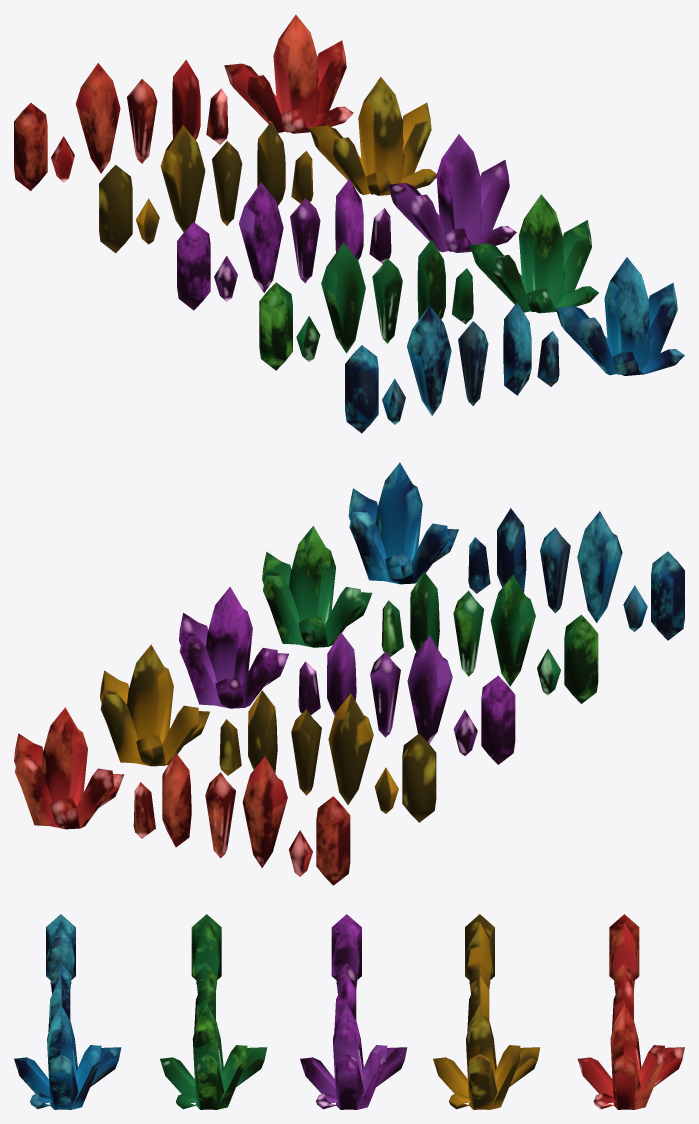
Rendered from lowpolycrystalsfinal.fbx.
The picture shows the model from 3 angles, top to bottom: view 1: azimuth 30°, elevation 25°; view 2: azimuth 150°, elevation 25°; view 3: azimuth 270°, elevation 25°; orthographic projection. The views are drawn at different scales.
Visible parts, largest first — view 1: blueCrystal1, greenCrystal1, redCrystal1, purpleCrystal1, yellowCrystal1, greenCrystal5, purpleCrystal5, blueCrystal5, redCrystal5, yellowCrystal5, purpleCrystal7, greenCrystal7 (+23 smaller); view 2: purpleCrystal1, redCrystal1, greenCrystal1, yellowCrystal1, blueCrystal1, yellowCrystal5, blueCrystal5, redCrystal5, greenCrystal5, purpleCrystal5, redCrystal7, purpleCrystal7 (+23 smaller); view 3: redCrystal1, blueCrystal1, yellowCrystal1, greenCrystal1, purpleCrystal1, redCrystal5, blueCrystal5, purpleCrystal5, greenCrystal5, yellowCrystal5, purpleCrystal7, greenCrystal7 (+13 smaller).
Boxes of the visible parts, x1,y1,x2,y2 form: blueCrystal1: (555,257,684,375); greenCrystal1: (469,194,598,313); redCrystal1: (224,14,353,133); purpleCrystal1: (387,134,516,252); yellowCrystal1: (309,77,436,195); greenCrystal5: (321,242,365,353); purpleCrystal5: (239,182,283,292); blueCrystal5: (407,305,451,415); redCrystal5: (76,63,120,173); yellowCrystal5: (160,125,205,232); purpleCrystal7: (177,222,210,310); greenCrystal7: (259,282,292,370); purpleCrystal1: (179,587,288,708); redCrystal1: (14,707,124,829); greenCrystal1: (262,526,372,647); yellowCrystal1: (100,644,209,766); blueCrystal1: (348,462,458,584); yellowCrystal5: (328,693,373,804); blueCrystal5: (577,511,622,622); redCrystal5: (242,756,287,867); greenCrystal5: (490,574,535,686); purpleCrystal5: (407,635,452,743); redCrystal7: (316,796,350,885); purpleCrystal7: (481,675,515,764); redCrystal1: (577,1004,684,1109); blueCrystal1: (14,1004,121,1109); yellowCrystal1: (433,1004,540,1109); greenCrystal1: (160,1004,267,1109); purpleCrystal1: (300,1004,407,1109); redCrystal5: (610,922,638,978); blueCrystal5: (47,922,74,977); purpleCrystal5: (333,922,360,978); greenCrystal5: (193,922,220,978); yellowCrystal5: (466,922,493,977); purpleCrystal7: (331,914,361,979); greenCrystal7: (191,914,221,979).
Size of the model in its own units: 26340 by 8574 by 54468.
